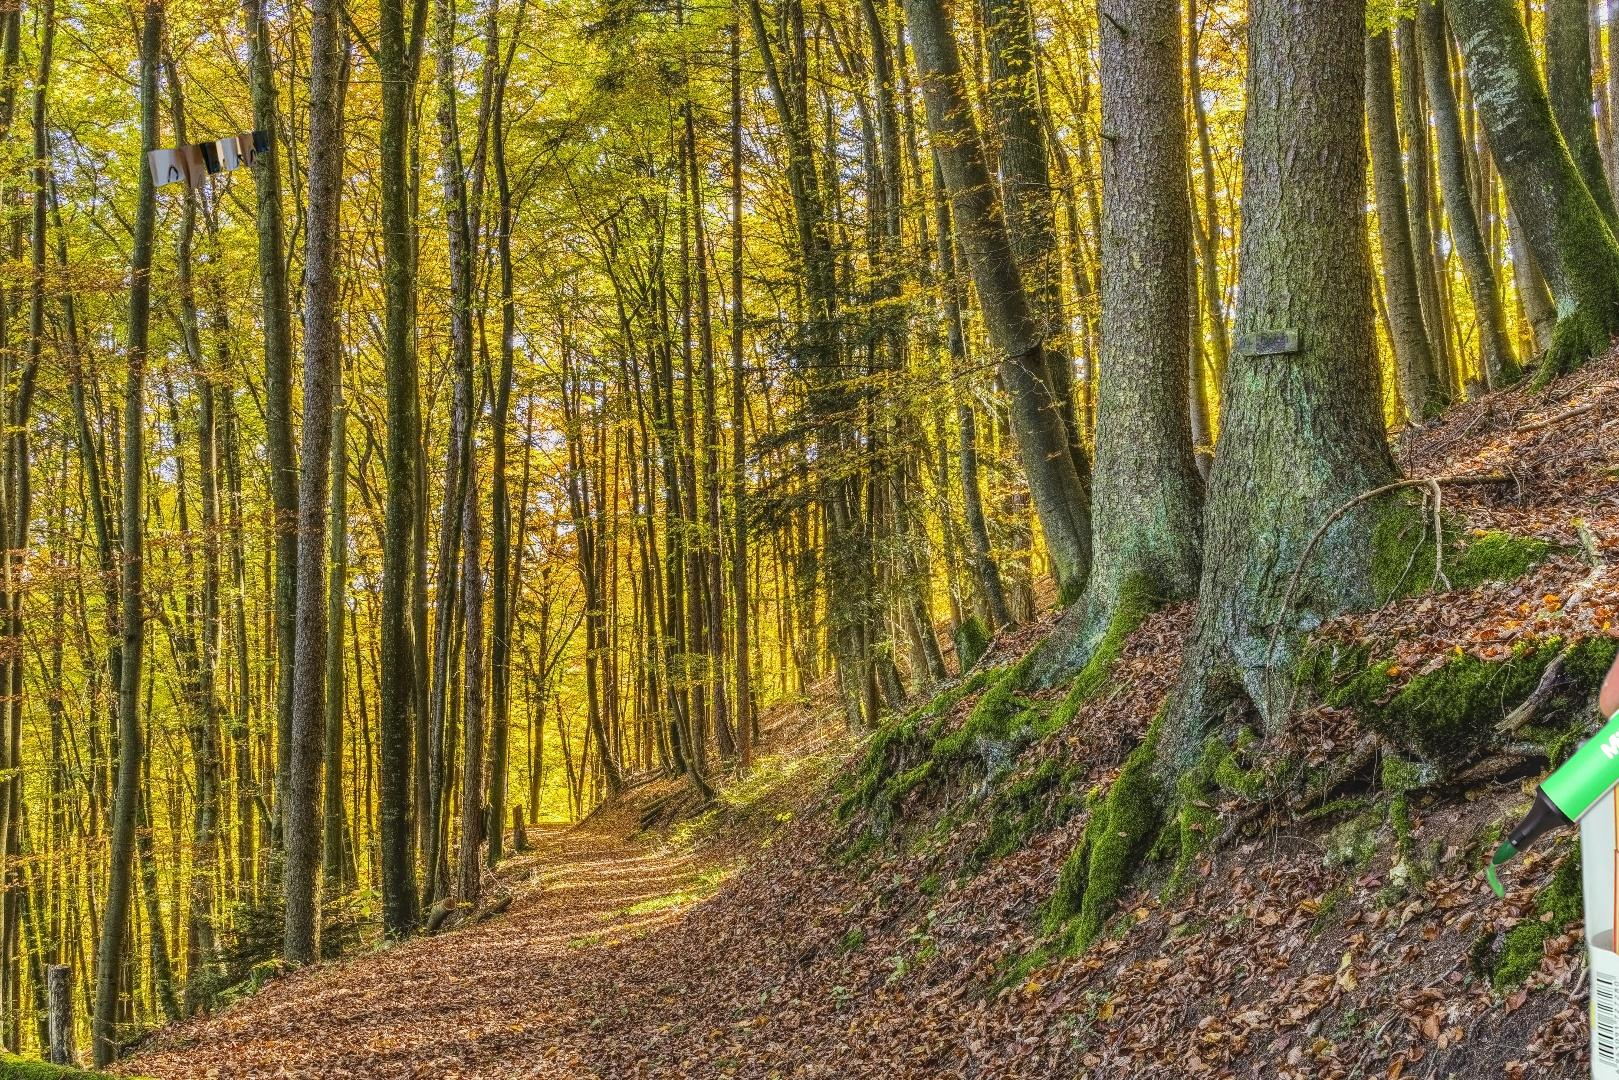paper-bag: (140, 127, 272, 193)
penholder: (1156, 446, 1619, 1080), (1517, 724, 1619, 1080)
